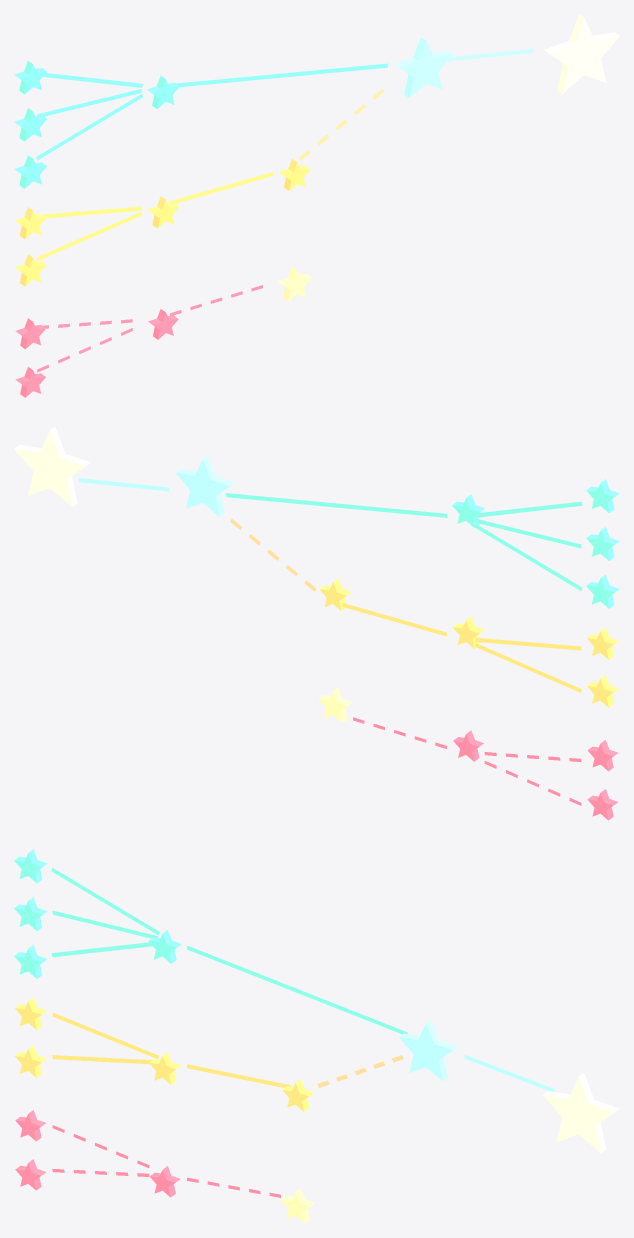
The model's file is interconnected_microstructure_star.glb.
3 renders of one model, top to bottom at view 1: azimuth 30°, elevation 25°; view 2: azimuth 150°, elevation 25°; view 3: azimuth 330°, elevation 25°, orthographic.
Visible parts, largest first — view 1: node_result, edge_corroborated, node_corroborated, node_uncertain, node_integrated, node_conflict, edge_uncertain, edge_conflict, node_review; view 2: node_result, edge_corroborated, node_corroborated, node_uncertain, node_integrated, node_conflict, edge_uncertain, edge_conflict, node_review; view 3: node_result, edge_corroborated, node_corroborated, node_uncertain, node_integrated, node_conflict, edge_uncertain, edge_conflict, node_review.
Boxes of the visible parts, x1,y1,x2,y2 form: node_result: [544, 14, 619, 93]; edge_corroborated: [36, 63, 388, 160]; node_corroborated: [14, 61, 179, 188]; node_uncertain: [15, 159, 310, 286]; node_integrated: [394, 37, 452, 97]; node_conflict: [15, 309, 178, 397]; edge_uncertain: [37, 172, 273, 260]; edge_conflict: [37, 285, 262, 372]; node_review: [277, 266, 311, 301]; node_result: [14, 426, 90, 506]; edge_corroborated: [226, 493, 582, 590]; node_corroborated: [452, 479, 619, 608]; node_uncertain: [319, 578, 618, 707]; node_integrated: [176, 455, 234, 516]; node_conflict: [453, 730, 618, 820]; edge_uncertain: [342, 603, 581, 692]; edge_conflict: [353, 717, 581, 805]; node_review: [318, 687, 352, 722]; node_result: [543, 1073, 619, 1152]; edge_corroborated: [51, 868, 407, 1034]; node_corroborated: [14, 849, 181, 978]; node_uncertain: [15, 997, 314, 1111]; node_integrated: [399, 1019, 457, 1081]; node_conflict: [15, 1110, 180, 1197]; edge_uncertain: [52, 1012, 291, 1087]; edge_conflict: [52, 1125, 280, 1197]; node_review: [281, 1188, 315, 1223].
Size of the model in its own units: 4.64 by 2.46 by 0.185.
